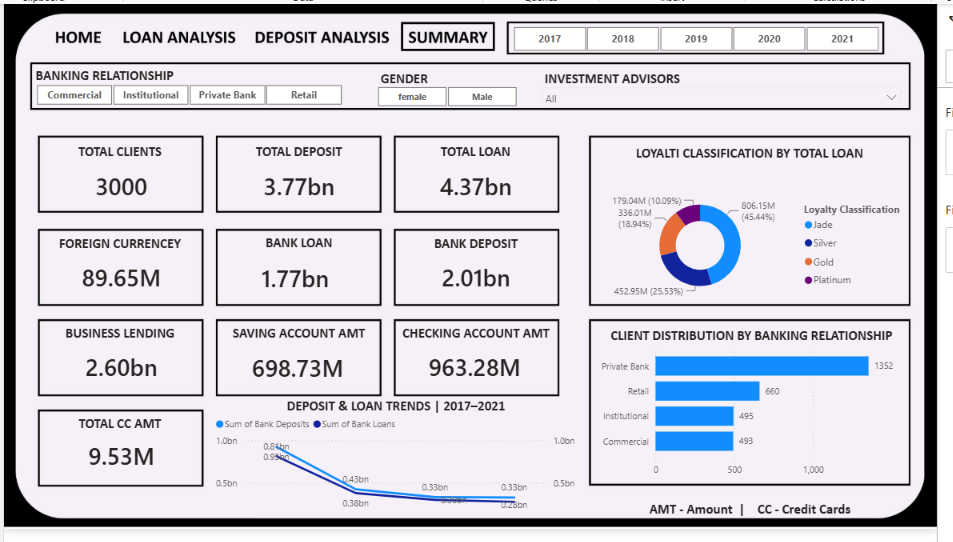

Layout of this report page (visuals, bound fields, positions):
{"tool":"powerbi","page":{"name":"SUMMARY","canvas":[1280,720],"ordinal":3},"visuals":[{"type":"slicer","fields":{"Values":["banking_case realtionships.Banking Relationship"]},"box":[19.2,104.3,467.9,39.8],"z":0},{"type":"textbox","box":[38.4,82.3,227.8,42.5],"z":1000},{"type":"textbox","box":[511.3,86.2,83.7,39.8],"z":2000},{"type":"slicer","fields":{"Values":["BANKING_CASE.GenderId"]},"box":[486.6,106.8,240.1,38.4],"z":3000},{"type":"textbox","box":[736.9,86.4,212.7,38.4],"z":4000},{"type":"slicer","fields":{"Values":["banking_case investment_advisiors.Investment Advisor"]},"box":[727.3,104.3,513.2,39.8],"z":5000},{"type":"slicer","fields":{"Values":["Date.Joined Bank - Copy"]},"box":[674.4,24.1,550.1,45.8],"z":6000},{"type":"actionButton","box":[52.1,24.7,100.2,39.8],"z":7000},{"type":"actionButton","box":[159.2,26.1,170.2,39.8],"z":8000},{"type":"actionButton","box":[340.3,24.7,194.9,39.8],"z":9000},{"type":"actionButton","box":[544.8,24.7,129,39.8],"z":10000},{"type":"textbox","box":[52.1,186.6,214.1,34.3],"z":11000},{"type":"textbox","box":[297.8,186.6,214.1,34.3],"z":12000},{"type":"textbox","box":[535.2,186.6,223.7,34.3],"z":13000},{"type":"textbox","box":[52.1,435,214.1,34.3],"z":14000},{"type":"textbox","box":[52.1,559.9,214.1,34.3],"z":15000},{"type":"textbox","box":[297.8,311.5,214.1,34.3],"z":16000},{"type":"textbox","box":[297.8,435,214.1,34.3],"z":17000},{"type":"textbox","box":[52.1,312.9,214.1,34.3],"z":18000},{"type":"textbox","box":[540.7,312.9,214.1,34.3],"z":19000},{"type":"textbox","box":[540.7,435,214.1,34.3],"z":20000},{"type":"cardVisual","fields":{"Data":["BANKING_CASE.Total loan"]},"box":[540.7,186.6,214.1,124.9],"z":21000},{"type":"cardVisual","fields":{"Data":["BANKING_CASE.Total deposit"]},"box":[288.2,186.6,234.6,124.9],"z":22000},{"type":"cardVisual","fields":{"Data":["CountNonNull(BANKING_CASE.Name)"]},"box":[52.1,186.6,218.2,124.9],"z":23000},{"type":"cardVisual","fields":{"Data":["Sum(BANKING_CASE.Foreign Currency Account)"]},"box":[52.1,311.5,218.2,123.5],"z":24000},{"type":"cardVisual","fields":{"Data":["Sum(BANKING_CASE.Bank Loans)"]},"box":[288.2,314.2,223.7,120.8],"z":25000},{"type":"cardVisual","fields":{"Data":["Sum(BANKING_CASE.Bank Deposits)"]},"box":[537.9,311.5,220.9,123.5],"z":26000},{"type":"cardVisual","fields":{"Data":["Sum(BANKING_CASE.Business Lending)"]},"box":[52.1,435,218.2,122.1],"z":27000},{"type":"cardVisual","fields":{"Data":["Sum(BANKING_CASE.Saving Accounts)"]},"box":[295,437.7,216.8,119.4],"z":28000},{"type":"cardVisual","fields":{"Data":["Sum(BANKING_CASE.Checking Accounts)"]},"box":[537.9,435,216.8,122.1],"z":29000},{"type":"cardVisual","fields":{"Data":["Sum(BANKING_CASE.Credit Card Balance)"]},"box":[52.1,559.9,218.2,116.6],"z":30000},{"type":"textbox","box":[767.1,676.5,513.2,43.9],"z":31000},{"type":"donutChart","fields":{"Category":["BANKING_CASE.Loyalty Classification"],"Y":["Sum(BANKING_CASE.Bank Loans)"]},"box":[808.2,253.9,432.2,155.1],"z":32000},{"type":"textbox","box":[806.9,188,432.2,34.3],"z":33000},{"type":"clusteredBarChart","fields":{"Category":["banking_case realtionships.Banking Relationship"],"Y":["CountNonNull(BANKING_CASE.Client ID)"]},"box":[808.2,456.9,432.2,200.3],"z":34000},{"type":"textbox","box":[809.6,439.1,432.2,34.3],"z":35000},{"type":"lineChart","fields":{"Y2":["Sum(BANKING_CASE.Bank Loans)"],"Y":["Sum(BANKING_CASE.Bank Deposits)"],"Category":["banking_case realtionships.Banking Relationship"]},"box":[285.4,557.1,503.6,141.3],"z":36000},{"type":"textbox","box":[270.3,535.2,535.2,43.9],"z":37000}]}

Visuals, with their boxes in screenshot pixels (x1, y1, x2, y2), scaled from the page's 1280x720 canvas onto the 953x542 screenshot:
slicer - banking_case realtionships.Banking Relationship: 14:79:363:108
textbox: 29:62:198:94
textbox: 381:65:443:95
slicer - BANKING_CASE.GenderId: 362:80:541:109
textbox: 549:65:707:94
slicer - banking_case investment_advisiors.Investment Advisor: 541:79:924:108
slicer - Date.Joined Bank - Copy: 502:18:912:53
actionButton: 39:19:113:49
actionButton: 119:20:245:50
actionButton: 253:19:398:49
actionButton: 406:19:502:49
textbox: 39:140:198:166
textbox: 222:140:381:166
textbox: 398:140:565:166
textbox: 39:327:198:353
textbox: 39:421:198:447
textbox: 222:234:381:260
textbox: 222:327:381:353
textbox: 39:236:198:261
textbox: 403:236:562:261
textbox: 403:327:562:353
cardVisual - BANKING_CASE.Total loan: 403:140:562:234
cardVisual - BANKING_CASE.Total deposit: 215:140:389:234
cardVisual - CountNonNull(BANKING_CASE.Name): 39:140:201:234
cardVisual - Sum(BANKING_CASE.Foreign Currency Account): 39:234:201:327
cardVisual - Sum(BANKING_CASE.Bank Loans): 215:237:381:327
cardVisual - Sum(BANKING_CASE.Bank Deposits): 400:234:565:327
cardVisual - Sum(BANKING_CASE.Business Lending): 39:327:201:419
cardVisual - Sum(BANKING_CASE.Saving Accounts): 220:329:381:419
cardVisual - Sum(BANKING_CASE.Checking Accounts): 400:327:562:419
cardVisual - Sum(BANKING_CASE.Credit Card Balance): 39:421:201:509
textbox: 571:509:952:541
donutChart - BANKING_CASE.Loyalty Classification x Sum(BANKING_CASE.Bank Loans): 602:191:924:308
textbox: 601:142:923:167
clusteredBarChart - banking_case realtionships.Banking Relationship x CountNonNull(BANKING_CASE.Client ID): 602:344:924:495
textbox: 603:331:925:356
lineChart - Sum(BANKING_CASE.Bank Loans) x Sum(BANKING_CASE.Bank Deposits): 212:419:587:526
textbox: 201:403:600:436
